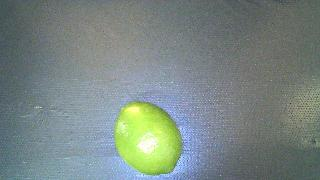EXPORTACION: (114, 102, 182, 175)
